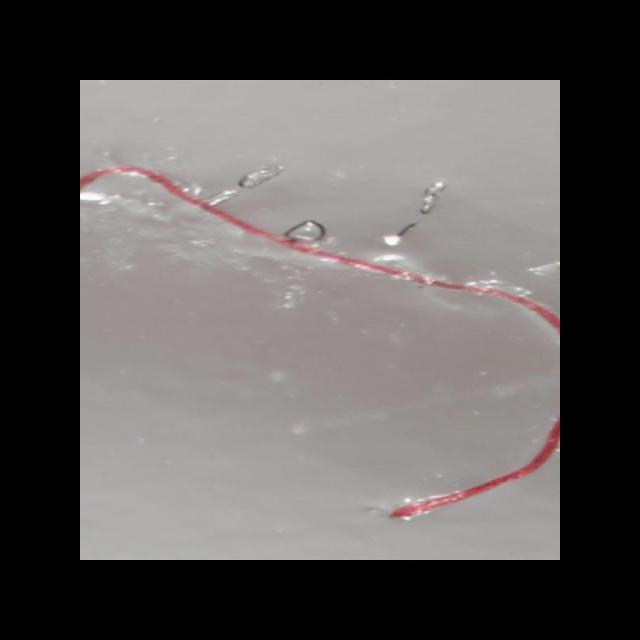Fibre: (80, 163, 560, 521)
